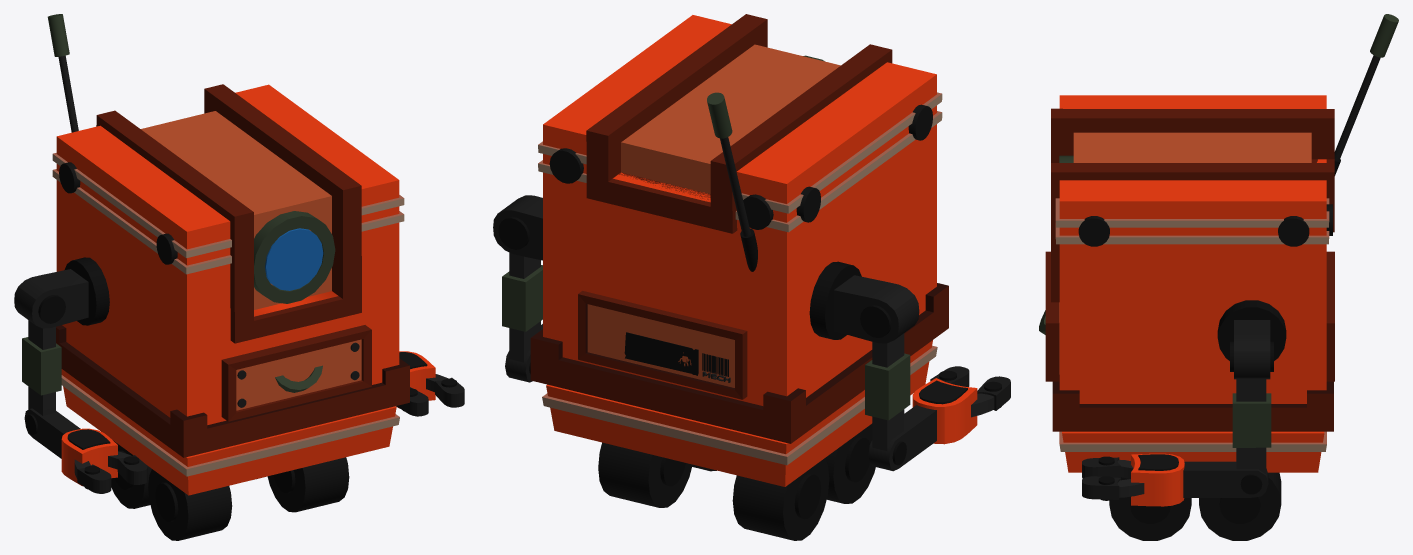
Rendered from ROBOT_0I_how_to use.fbx.
3 renders of one model, left to right at view 1: azimuth 30°, elevation 25°; view 2: azimuth 150°, elevation 25°; view 3: azimuth 270°, elevation 25°, orthographic. The views are drawn at different scales.
Parts seen in each view (by area): view 1: ROBOT_0I; view 2: ROBOT_0I; view 3: ROBOT_0I.
Part boxes in pixels (<box>): ROBOT_0I: <box>14,14,464,540</box>; ROBOT_0I: <box>493,14,1010,540</box>; ROBOT_0I: <box>1039,14,1398,540</box>.
Size of the model in its own units: 2.25 by 2.51 by 1.83.
